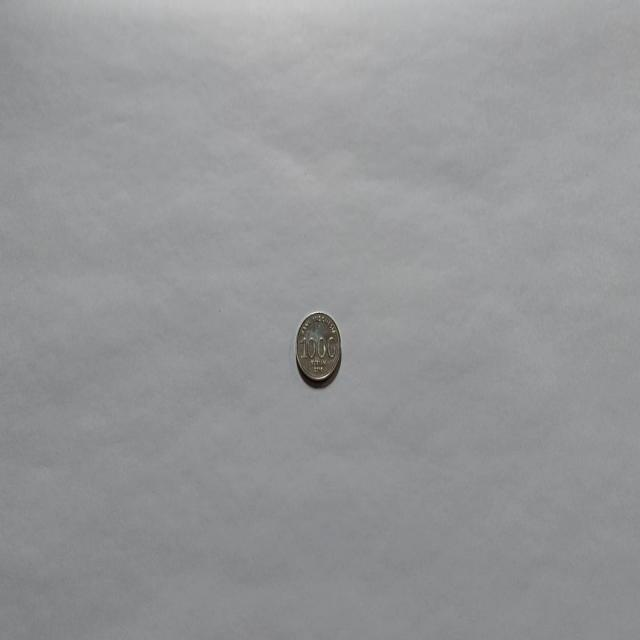seribu rupiah koin: (294, 310, 342, 384)
